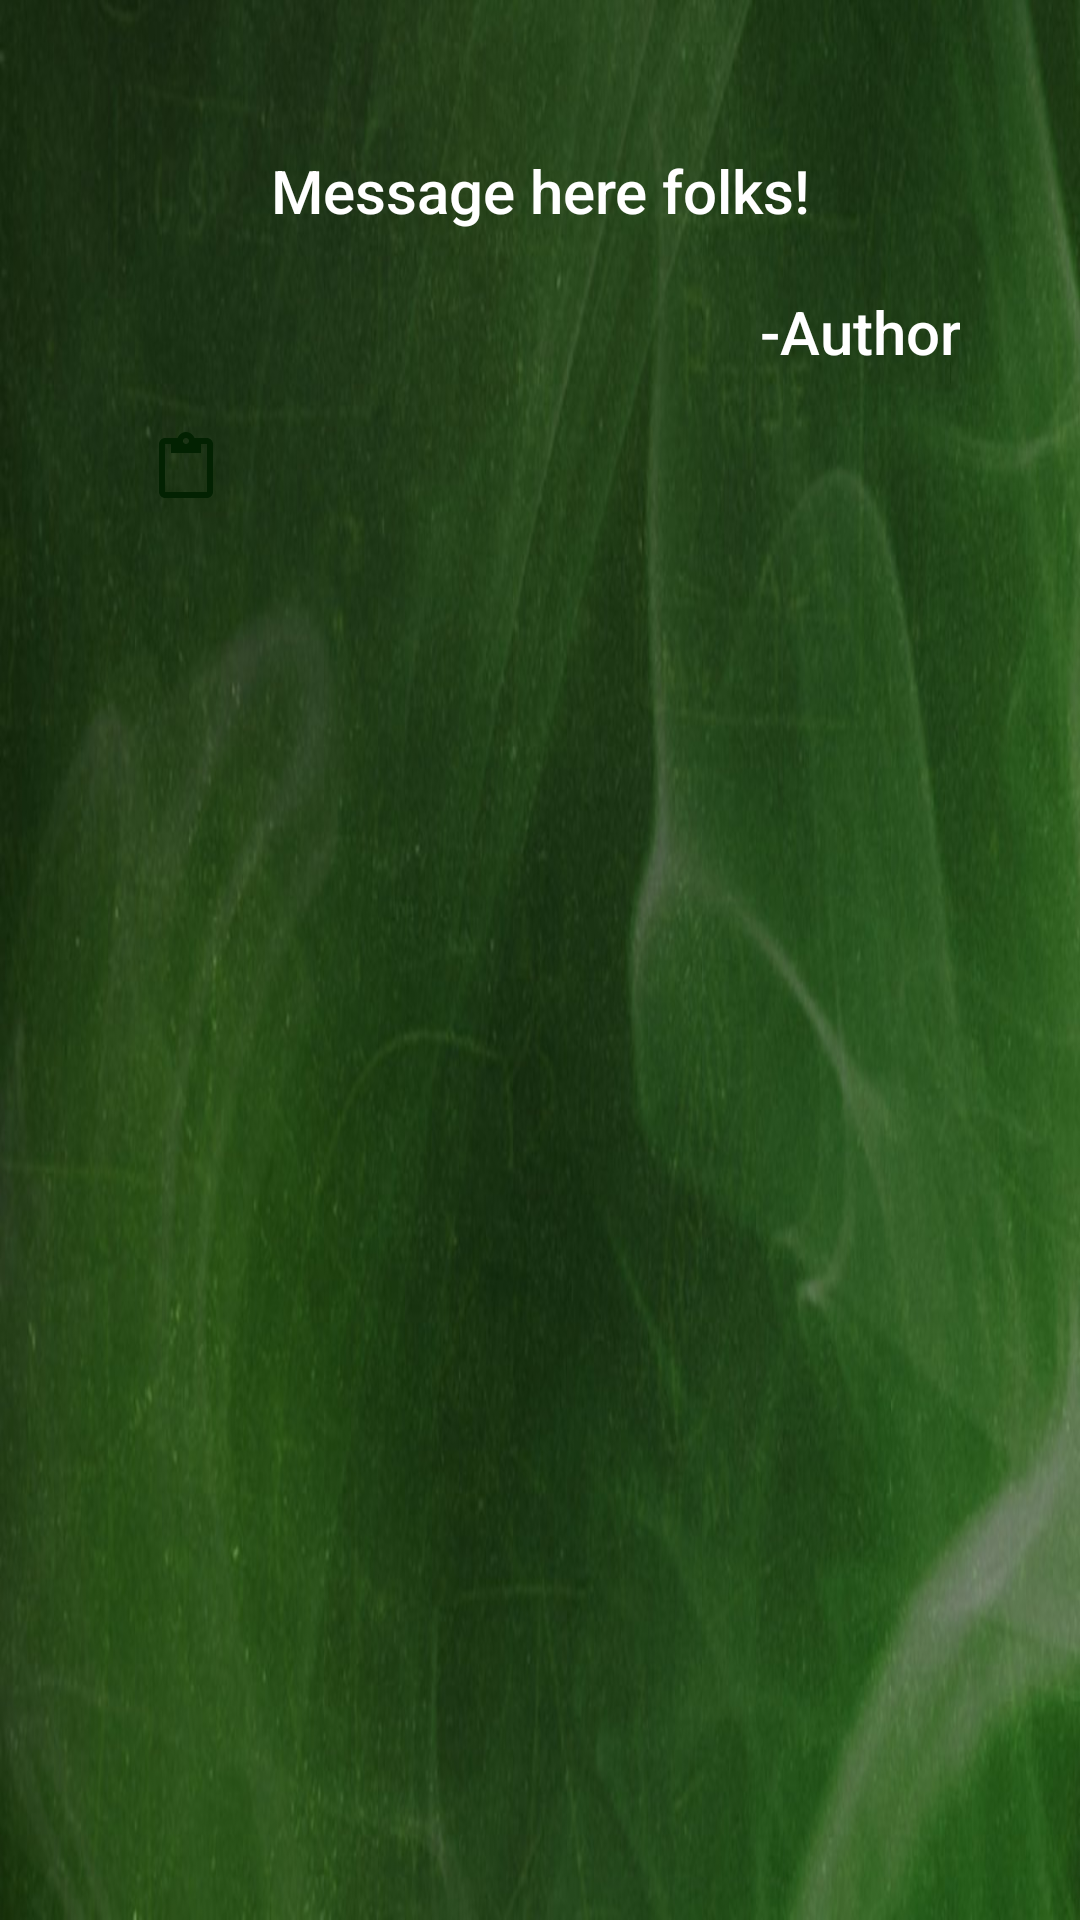

Screen size 1080×1920. Icon name, then its box in pixels as (x1,y1,x2,y2):
content paste: (159,432,213,498)
